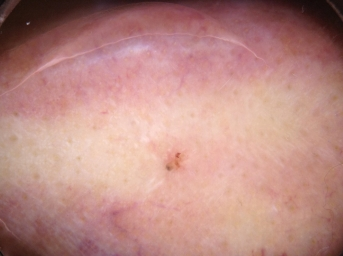nevus: (165, 152, 187, 173)
